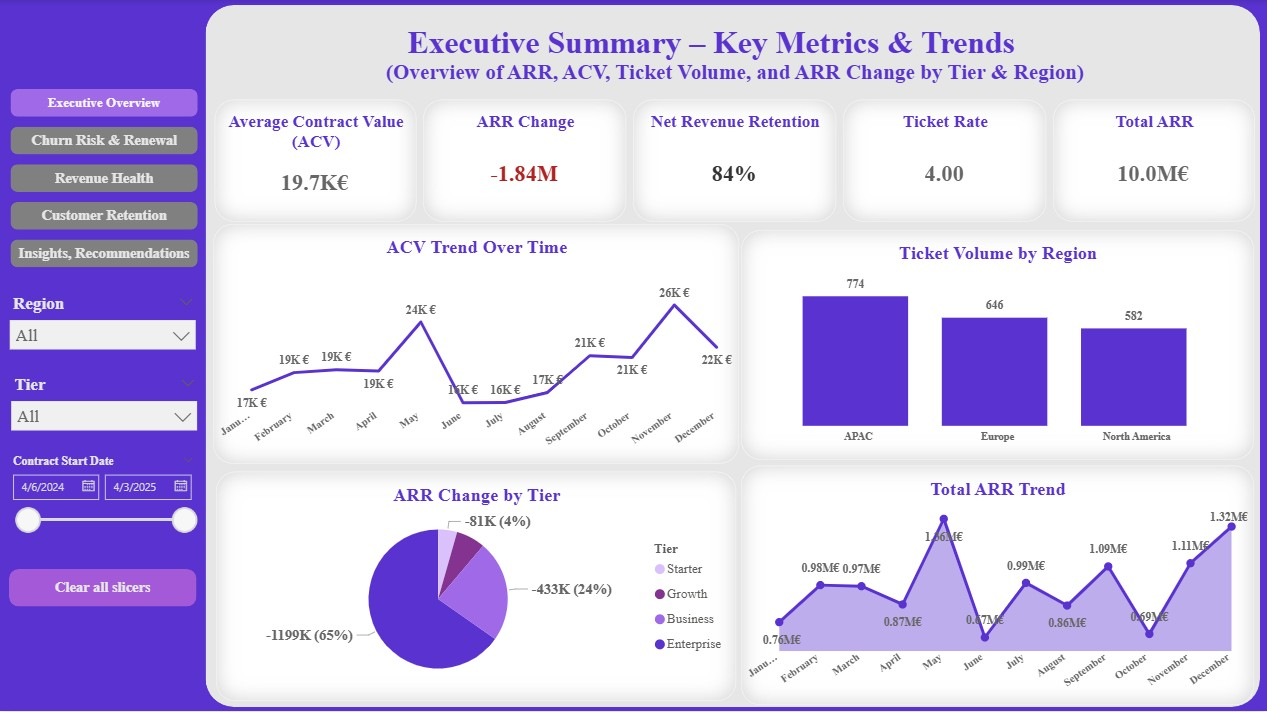

Layout of this report page (visuals, bound fields, positions):
{"tool":"powerbi","page":{"name":"Executive Overview","canvas":[1280,720],"ordinal":0},"visuals":[{"type":"shape","box":[207.4,6.1,1064.5,708.6],"z":0},{"type":"textbox","box":[218,19.7,1047.8,95.4],"z":1000},{"type":"slicer","fields":{"Values":["accounts.region"]},"box":[0,292.2,207.4,81.8],"z":2000},{"type":"slicer","fields":{"Values":["accounts.tier"]},"box":[1.5,374,207.4,80.3],"z":3000},{"type":"cardVisual","title":"Average Contract Value (ACV)","fields":{"Data":["Measure Table.ACV"]},"box":[216.7,101.1,203.9,123.6],"z":4000},{"type":"cardVisual","title":"Net Revenue Retention ","fields":{"Data":["Measure Table.NRR"]},"box":[638.9,101.1,205.5,123.6],"z":5000},{"type":"slicer","fields":{"Values":["accounts.contract_start"]},"box":[0,454.3,207.4,107.5],"z":6000},{"type":"lineChart","title":"ACV Trend Over Time","fields":{"Category":["accounts.contract_start.Variation.Date Hierarchy.Month"],"Y":["Measure Table.ACV"]},"box":[215,227.5,531.5,242.3],"z":7000},{"type":"pieChart","title":"ARR Change by Tier","fields":{"Category":["accounts.tier"],"Y":["Measure Table.ARR Change"]},"box":[218,476.6,525.4,231.7],"z":8000},{"type":"columnChart","title":"Ticket Volume by Region","fields":{"Y":["CountNonNull(support.ticket_id)"],"Category":["accounts.region"]},"box":[748,232.8,517.9,231.7],"z":9000},{"type":"cardVisual","title":"ARR Change","fields":{"Data":["Measure Table.ARR Change"]},"box":[427,101.1,205.5,123.6],"z":10000},{"type":"cardVisual","title":"Total ARR","fields":{"Data":["Measure Table.Total ARR"]},"box":[1062.7,101.1,203.9,123.6],"z":11000},{"type":"cardVisual","title":"Ticket Rate","fields":{"Data":["Measure Table.Ticket Rate"]},"box":[850.8,101.1,205.5,123.6],"z":12000},{"type":"actionButton","box":[9.1,575.4,189.3,37.9],"z":14000},{"type":"areaChart","title":"Total ARR Trend","fields":{"Category":["accounts.contract_start.Variation.Date Hierarchy.Month"],"Y":["Sum(accounts.arr)"]},"box":[748,471.3,517.9,242.3],"z":15000},{"type":"pageNavigator","box":[10.6,90.9,189.3,181.7],"z":16000}]}

Visuals, with their boxes in screenshot pixels (x1, y1, x2, y2), scaled from the page's 1280x720 canvas onto the 1267x712 screenshot:
shape: 205 6 1259 707
textbox: 216 19 1253 114
slicer - accounts.region: 0 289 205 370
slicer - accounts.tier: 1 370 207 449
"Average Contract Value (ACV)" cardVisual: 214 100 416 222
"Net Revenue Retention " cardVisual: 632 100 836 222
slicer - accounts.contract_start: 0 449 205 556
"ACV Trend Over Time" lineChart: 213 225 739 465
"ARR Change by Tier" pieChart: 216 471 736 700
"Ticket Volume by Region" columnChart: 740 230 1253 459
"ARR Change" cardVisual: 423 100 626 222
"Total ARR" cardVisual: 1052 100 1254 222
"Ticket Rate" cardVisual: 842 100 1046 222
actionButton: 9 569 196 606
"Total ARR Trend" areaChart: 740 466 1253 706
pageNavigator: 10 90 198 270
